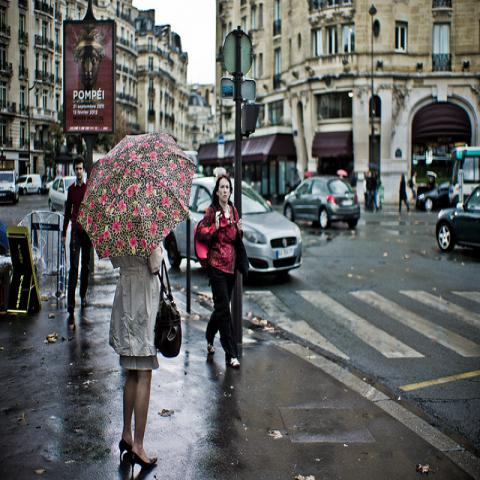bus: (448, 146, 479, 210)
car: (189, 176, 304, 274), (283, 176, 360, 229), (436, 186, 480, 258), (416, 181, 450, 213), (48, 175, 77, 212), (0, 170, 20, 206), (17, 173, 42, 196), (184, 150, 205, 176)
